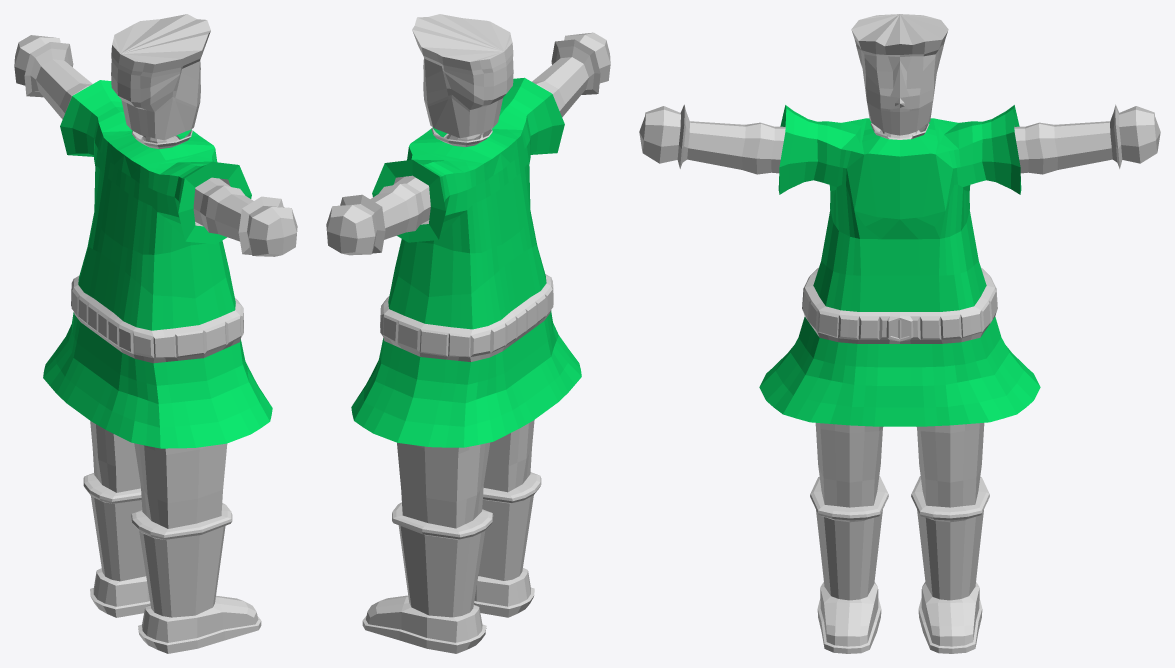
The model's file is character.fbx.
3 renders of one model, left to right at view 1: azimuth 30°, elevation 25°; view 2: azimuth 150°, elevation 25°; view 3: azimuth 270°, elevation 25°, orthographic.
Parts seen in each view (by area): view 1: character; view 2: character; view 3: character.
Boxes of the visible parts, x1=… form: character: x1=14, y1=14, x2=297, y2=653; character: x1=326, y1=14, x2=610, y2=653; character: x1=639, y1=14, x2=1160, y2=653.
Bounding box in the file's own units: 136 × 481 × 380.
